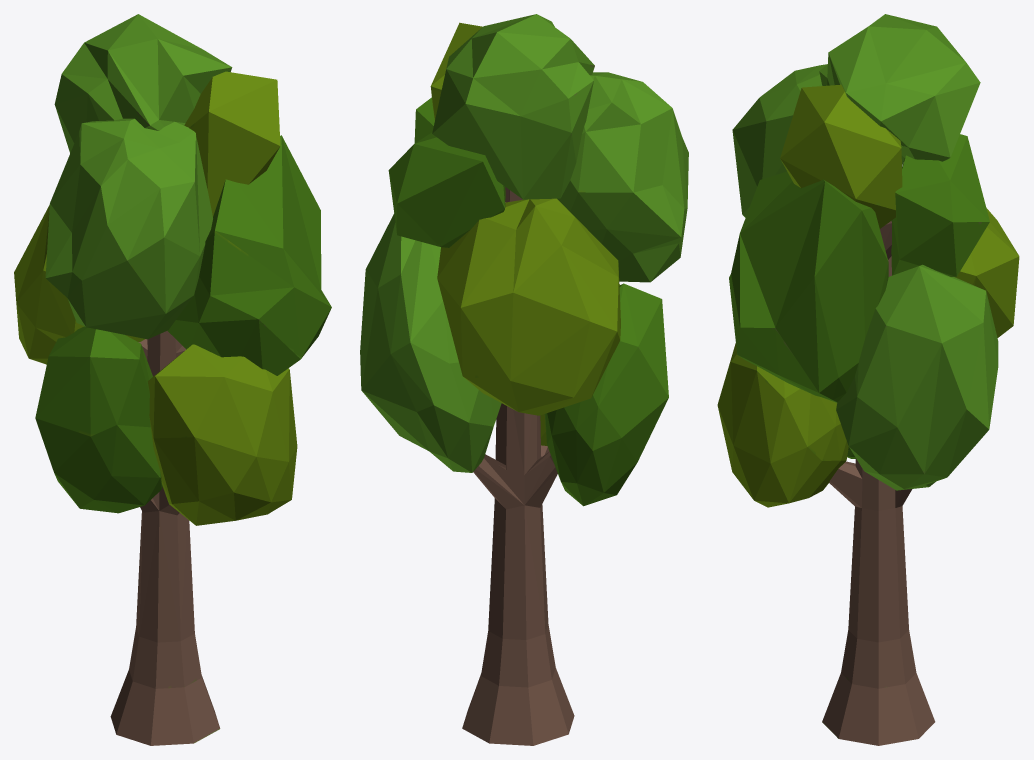
File: tall_deciduous_tree_green_leaves.obj
3 renders of one model, left to right at view 1: azimuth 30°, elevation 25°; view 2: azimuth 150°, elevation 25°; view 3: azimuth 270°, elevation 25°, orthographic. The views are drawn at different scales.
Parts seen in each view (by area): view 1: Tall_deciduous_tree_green_leaves; view 2: Tall_deciduous_tree_green_leaves; view 3: Tall_deciduous_tree_green_leaves.
Part boxes in pixels (x1,y1,x2,y2): Tall_deciduous_tree_green_leaves: (14, 14, 331, 745); Tall_deciduous_tree_green_leaves: (360, 14, 688, 745); Tall_deciduous_tree_green_leaves: (717, 14, 1019, 745).
Bounding box in the file's own units: 1.11 × 2.79 × 1.11.
1 material, 1 textured.
